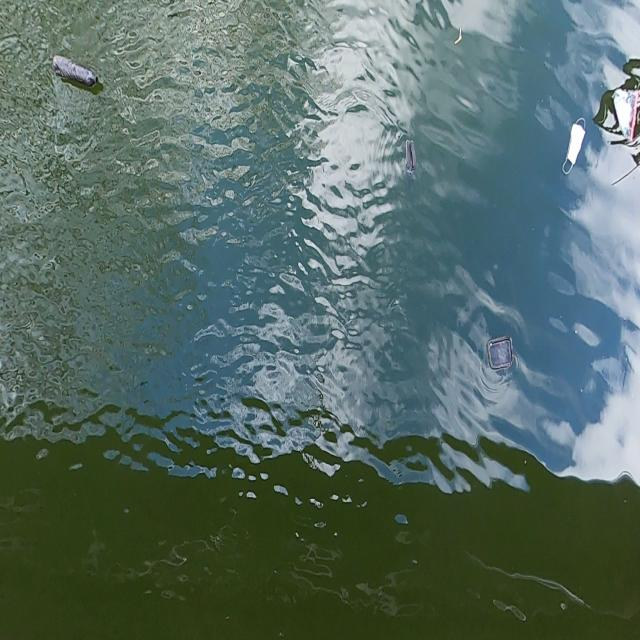Autre plastique: (483, 332, 517, 377), (399, 135, 419, 182)
Bouteille plastique: (48, 49, 100, 97)
Non plastique: (559, 112, 589, 178)
Sac plastique: (610, 80, 640, 148)
